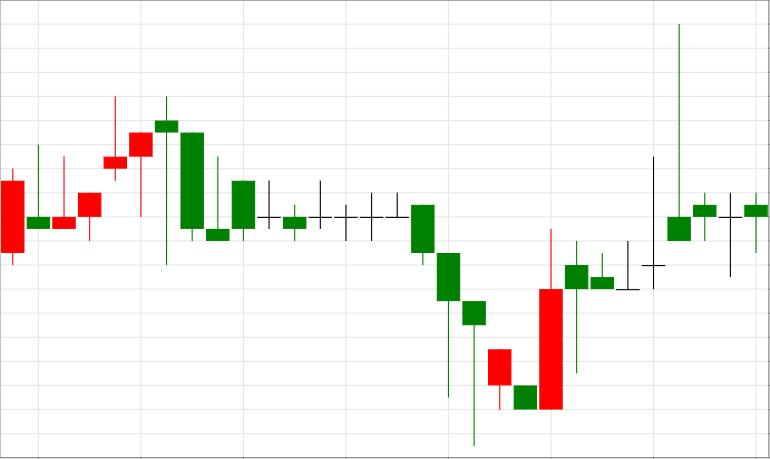bullish_engulfing_rise: (155, 96, 562, 446)
evening_star_fall: (1, 95, 204, 266)
hammer_rise: (155, 95, 486, 446), (156, 95, 459, 398)
